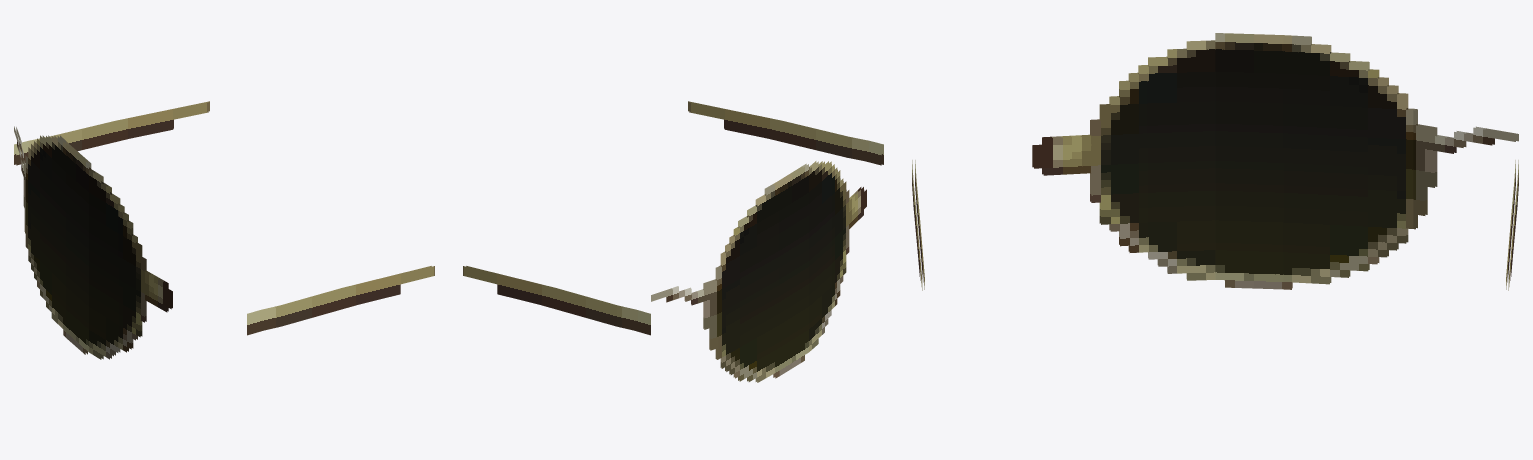
File: Sheep_starGlasses.obj
3 renders of one model, left to right at view 1: azimuth 30°, elevation 25°; view 2: azimuth 150°, elevation 25°; view 3: azimuth 270°, elevation 25°, orthographic. The views are drawn at different scales.
Visible parts, largest first — view 1: Sheep_starGlasses_tri; view 2: Sheep_starGlasses_tri; view 3: Sheep_starGlasses_tri.
Part boxes in pixels (<box>): Sheep_starGlasses_tri: <box>14,101,434,359</box>; Sheep_starGlasses_tri: <box>463,101,883,382</box>; Sheep_starGlasses_tri: <box>912,33,1518,290</box>.
Bounding box in the file's own units: 0.0966 × 0.0876 × 0.167.
1 material, 1 textured.
